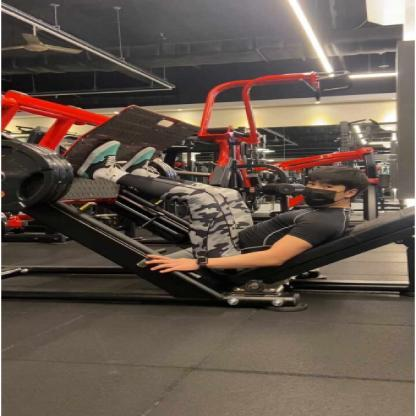leg press: (5, 70, 416, 416)
